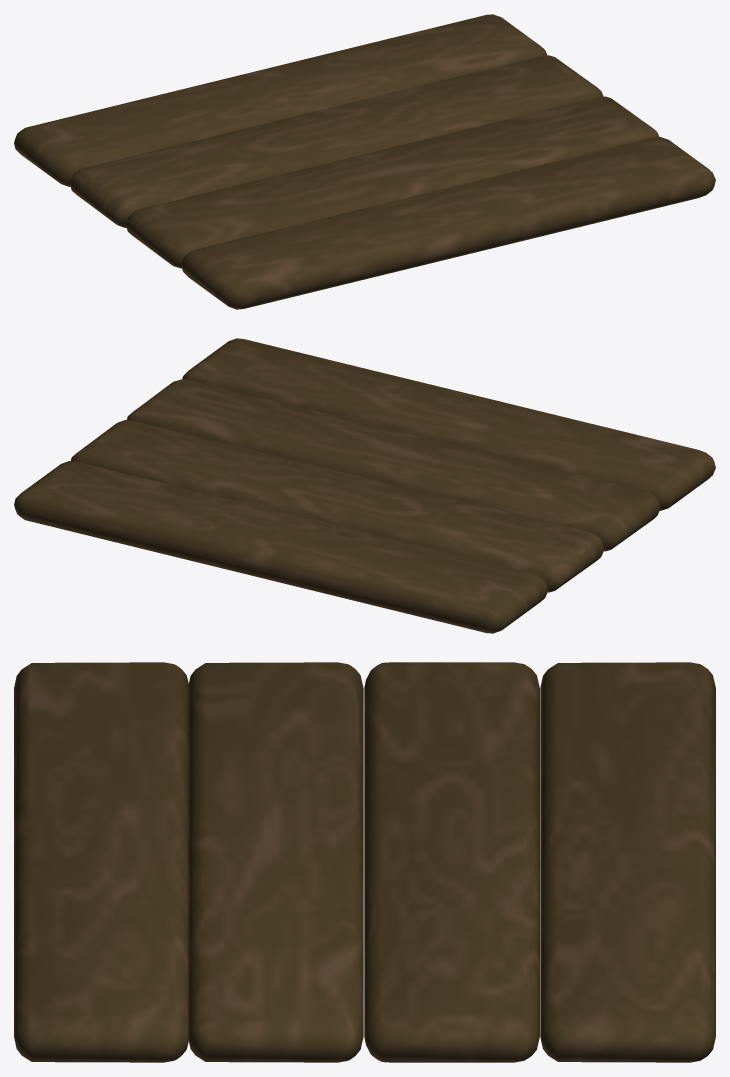
The picture shows the model from 3 angles, top to bottom: view 1: azimuth 30°, elevation 25°; view 2: azimuth 150°, elevation 25°; view 3: azimuth 270°, elevation 25°; orthographic projection. The views are drawn at different scales.
Parts seen in each view (by area): view 1: Cube.002_Baked; view 2: Cube.002_Baked; view 3: Cube.002_Baked.
Boxes of the visible parts, box(x1,y1,x2,y2) form: Cube.002_Baked: box(14, 14, 715, 309); Cube.002_Baked: box(14, 338, 715, 633); Cube.002_Baked: box(14, 662, 715, 1062).
Size of the model in its own units: 264 by 14.39 by 208.
Materials: 1 (1 with a texture image).
